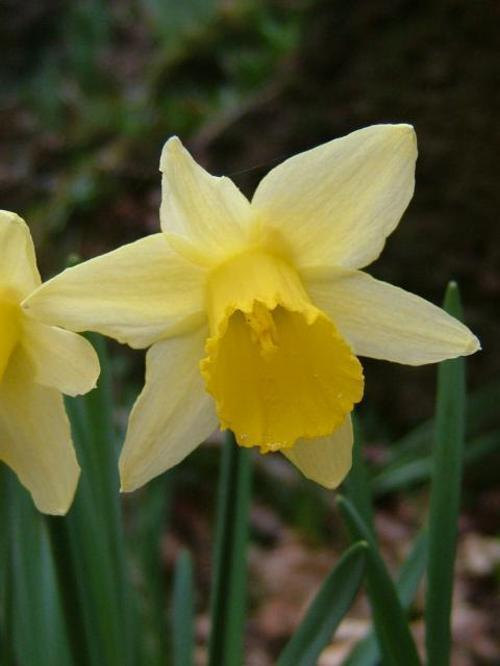flower1: (20, 121, 482, 495)
